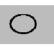no answer: (6, 12, 39, 36)
